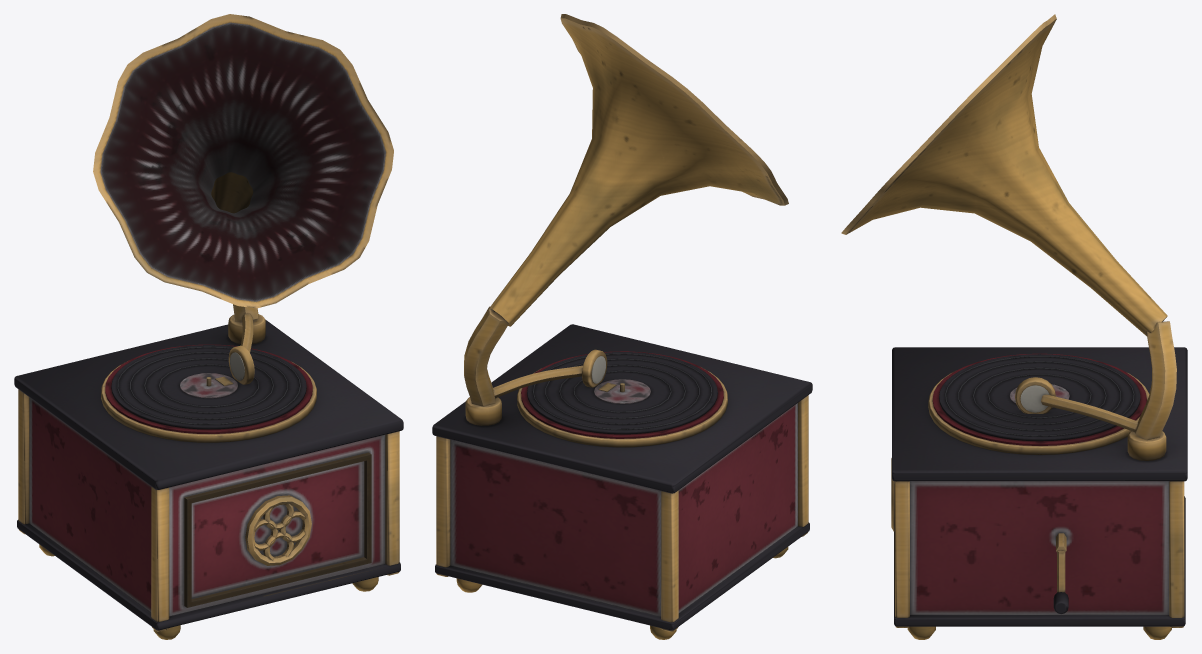
Rendered from Gramophone.fbx.
3 renders of one model, left to right at view 1: azimuth 30°, elevation 25°; view 2: azimuth 150°, elevation 25°; view 3: azimuth 270°, elevation 25°, orthographic. The views are drawn at different scales.
Visible parts, largest first — view 1: Gramophone_Main, Gramophone_Record; view 2: Gramophone_Main, Gramophone_Record; view 3: Gramophone_Main, Gramophone_Record.
Part boxes in pixels (left/top/right/bottom): Gramophone_Main: left=14, top=14, right=403, bottom=639; Gramophone_Record: left=101, top=344, right=316, bottom=442; Gramophone_Main: left=432, top=14, right=812, bottom=639; Gramophone_Record: left=517, top=351, right=727, bottom=447; Gramophone_Main: left=841, top=14, right=1187, bottom=639; Gramophone_Record: left=928, top=353, right=1149, bottom=454.
Size of the model in its own units: 167 by 294 by 162.
